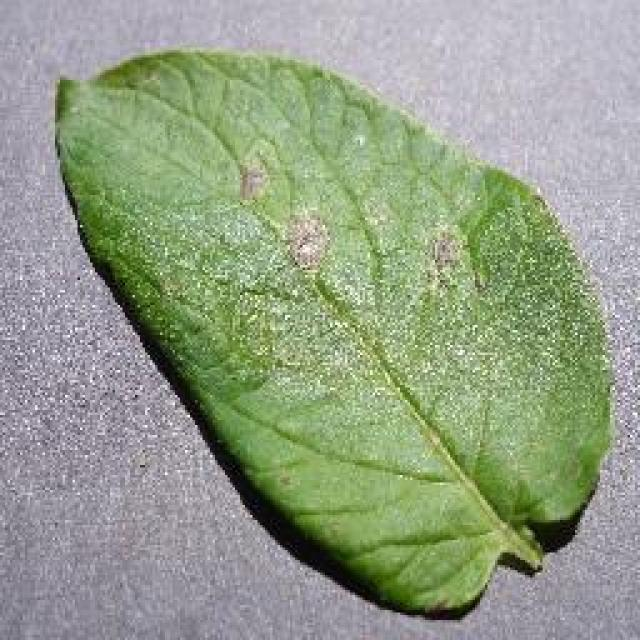early_blight: (48, 42, 620, 622)
